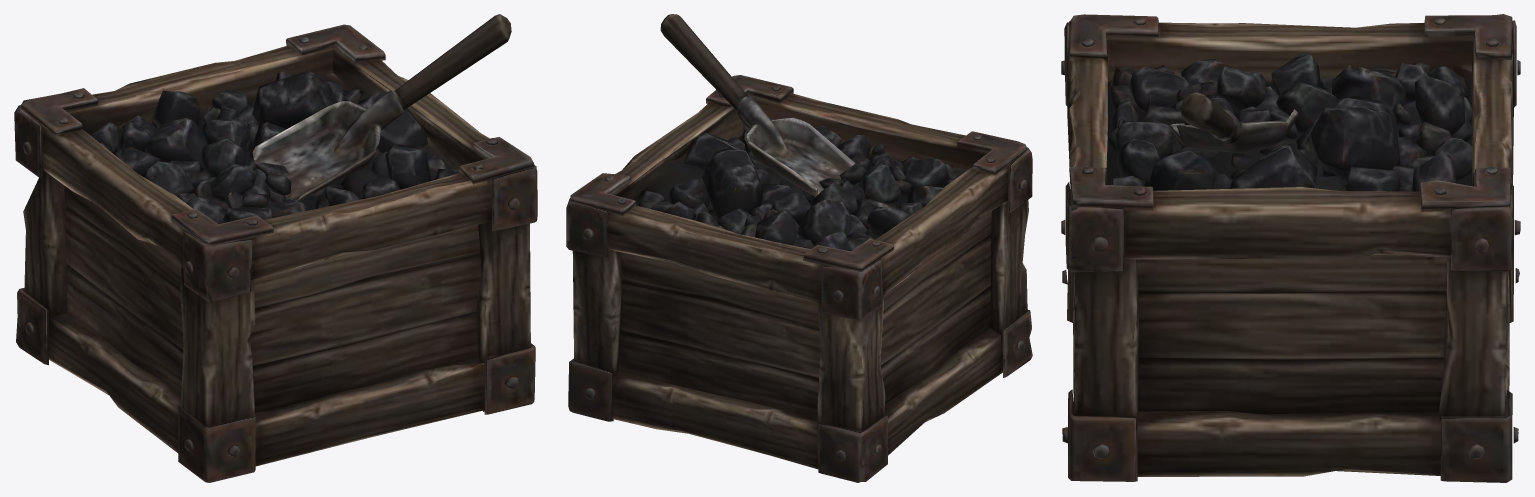
Rendered from forge_coalbin.glb.
3 renders of one model, left to right at view 1: azimuth 30°, elevation 25°; view 2: azimuth 150°, elevation 25°; view 3: azimuth 270°, elevation 25°, orthographic. The views are drawn at different scales.
Bounding box in the file's own units: 0.9614 × 0.8716 × 0.899.
1 material, 1 textured.
